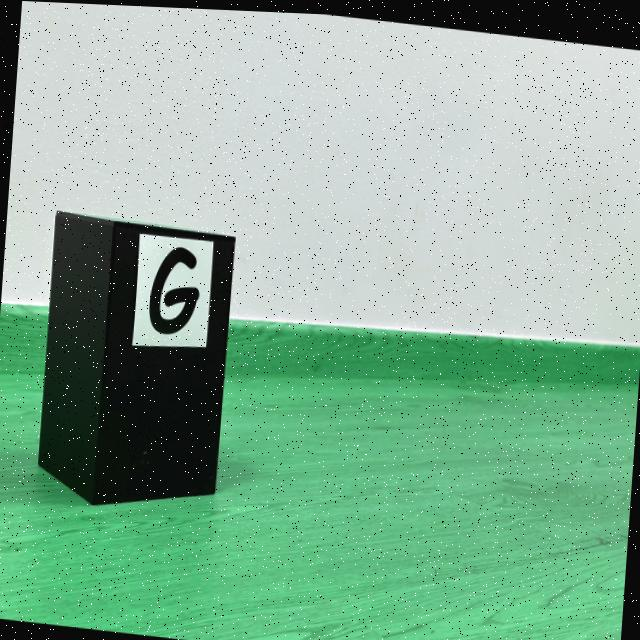G: (148, 244, 199, 332)
